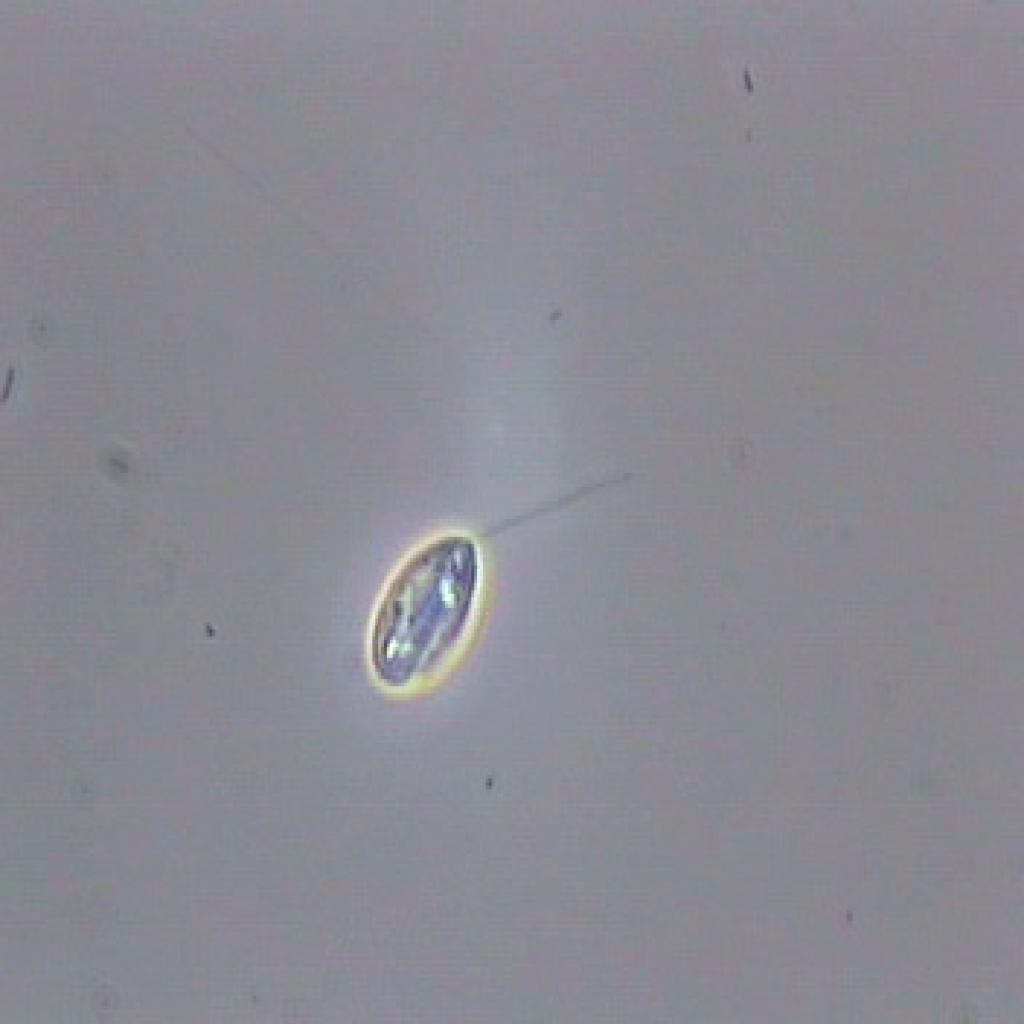Flagellates: (329, 487, 602, 697)
